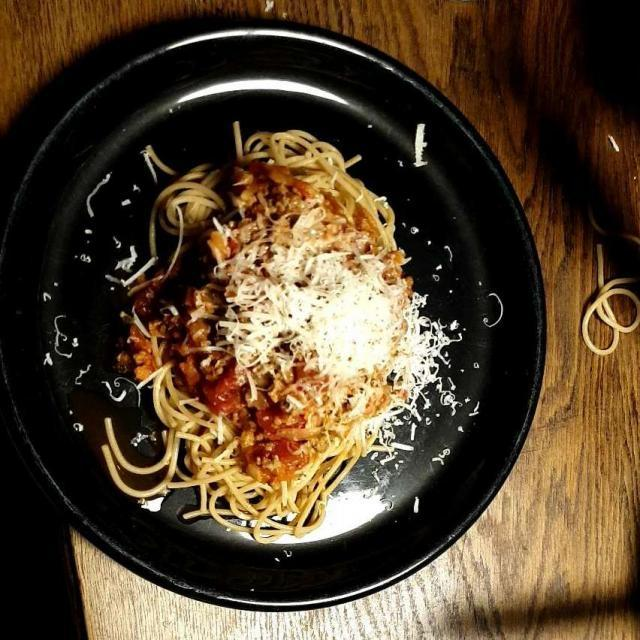bolognaise-sauce: (111, 157, 433, 482)
cheese: (212, 206, 452, 411)
pasta: (78, 134, 417, 533)
